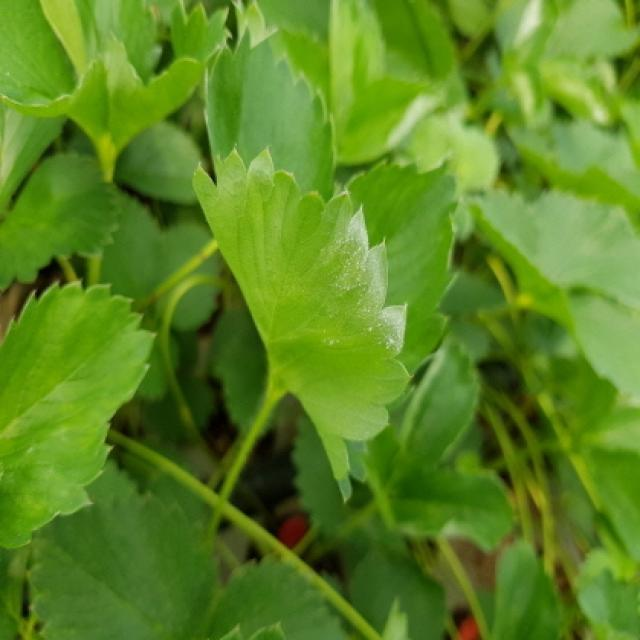powdery_mildew_leaf: (192, 146, 416, 506)
